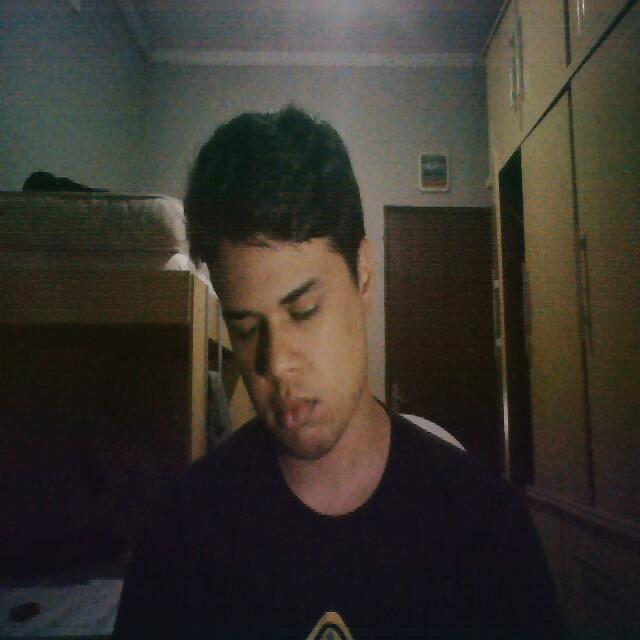sonolento: (196, 215, 378, 463)
